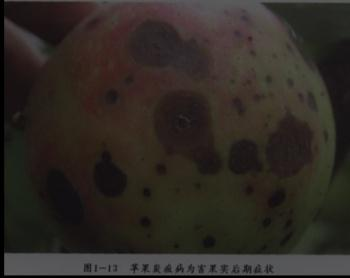rotten apple: (5, 13, 336, 250)
